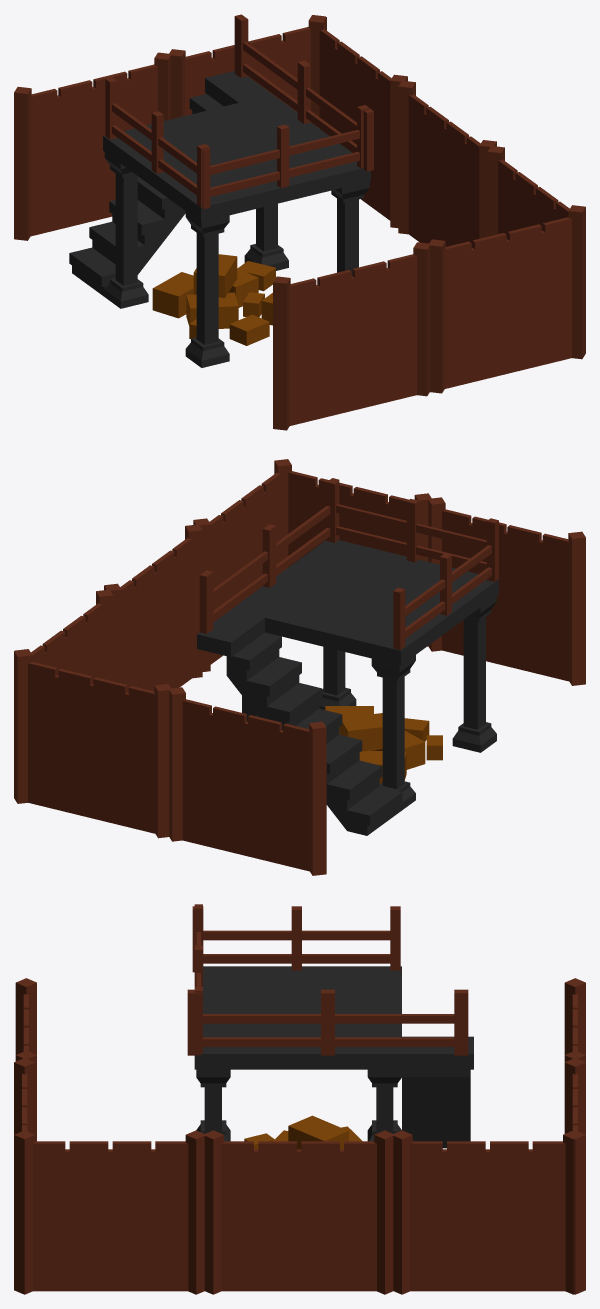
The model's file is building.fbx.
3 renders of one model, top to bottom at view 1: azimuth 30°, elevation 25°; view 2: azimuth 150°, elevation 25°; view 3: azimuth 270°, elevation 25°, orthographic. The views are drawn at different scales.
Parts seen in each view (by area): view 1: mergedBlocks; view 2: mergedBlocks; view 3: mergedBlocks.
Boxes of the visible parts, x1,y1,x2,y2 form: mergedBlocks: [14, 14, 585, 430]; mergedBlocks: [14, 459, 585, 875]; mergedBlocks: [14, 904, 585, 1294].
Bounding box in the file's own units: 22.25 × 15 × 33.35.
